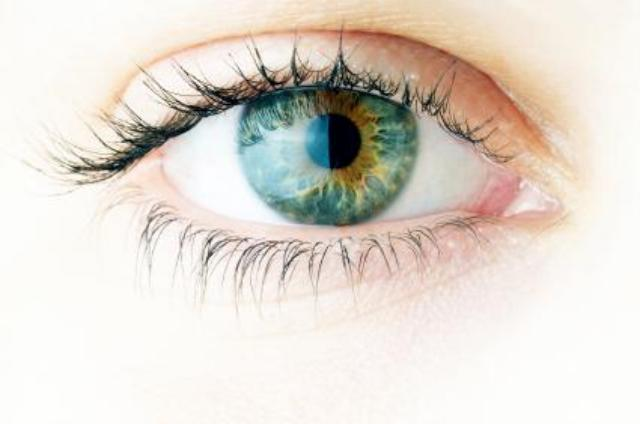eye: (239, 74, 419, 233)
